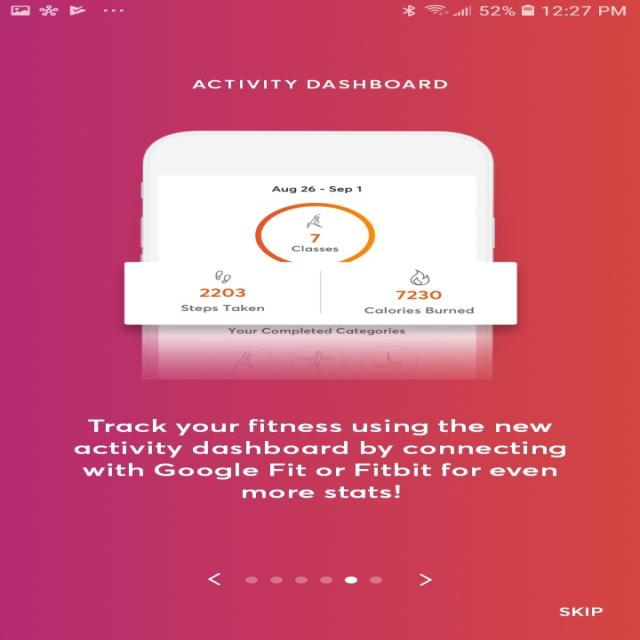Icon: (207, 572, 221, 585), (418, 573, 432, 586)
Image: (123, 130, 518, 380)
Text: (73, 418, 566, 498), (191, 80, 447, 89), (558, 606, 602, 616)
